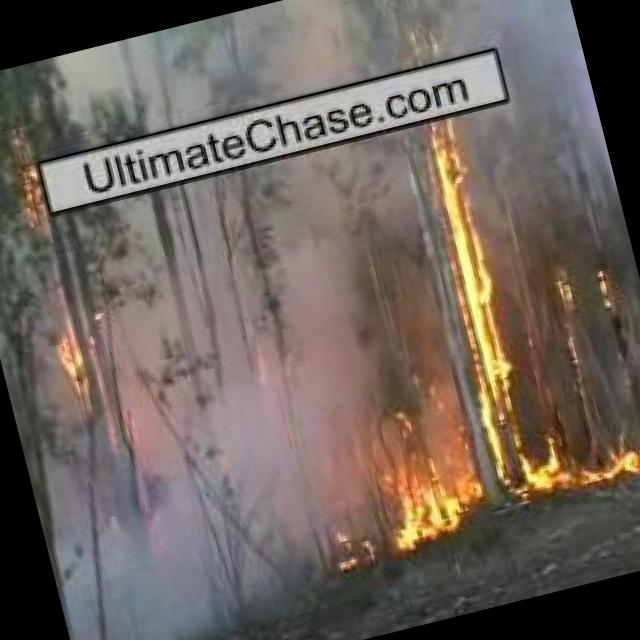Fire: (351, 393, 640, 556), (412, 116, 530, 435), (0, 145, 52, 251), (46, 316, 106, 404), (544, 266, 588, 326), (588, 254, 619, 316)
Smoke: (44, 132, 457, 460), (31, 411, 383, 640), (37, 0, 451, 149), (478, 0, 624, 236)
